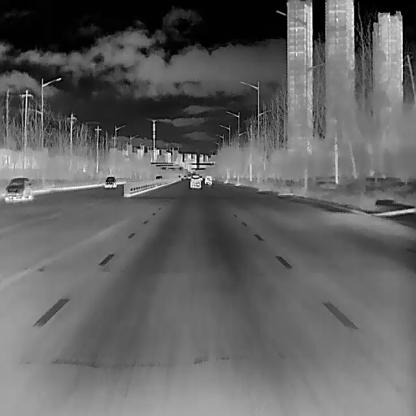car: (5, 176, 30, 202), (103, 175, 116, 187), (190, 174, 200, 188), (204, 174, 212, 184)
